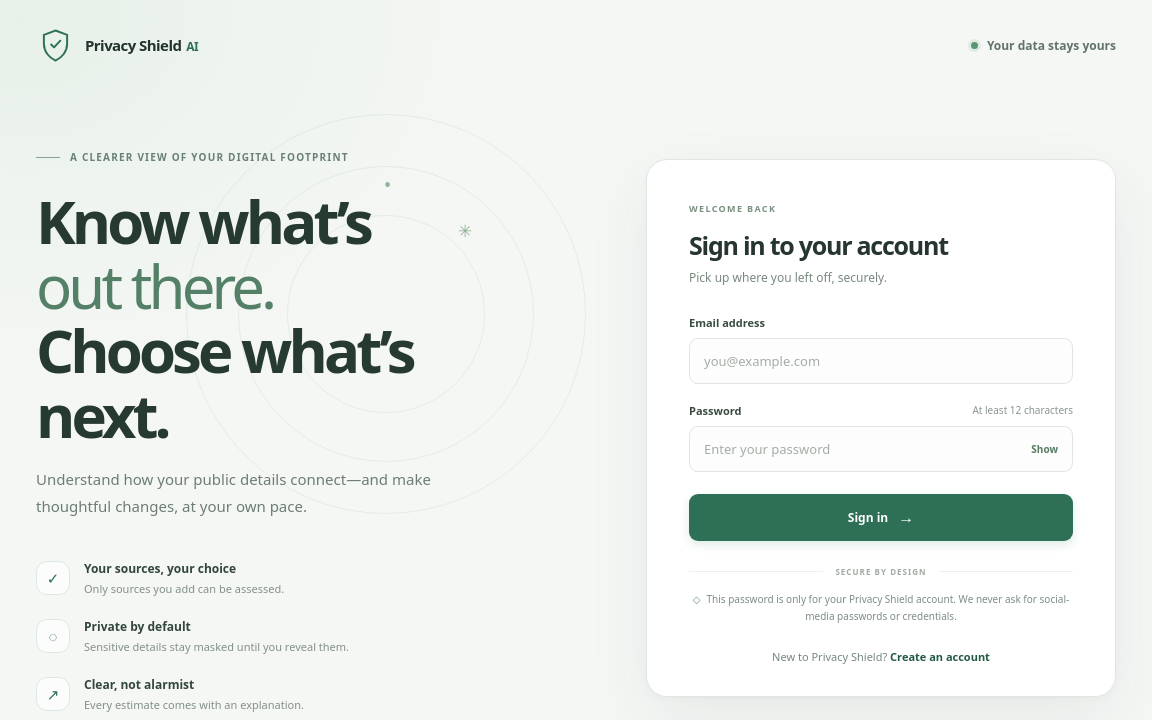
account access › shows a request reference with authentication errors
Type "avery@example.test" into the field labelled "Email address" at (881, 360), box [689, 338, 1073, 384]
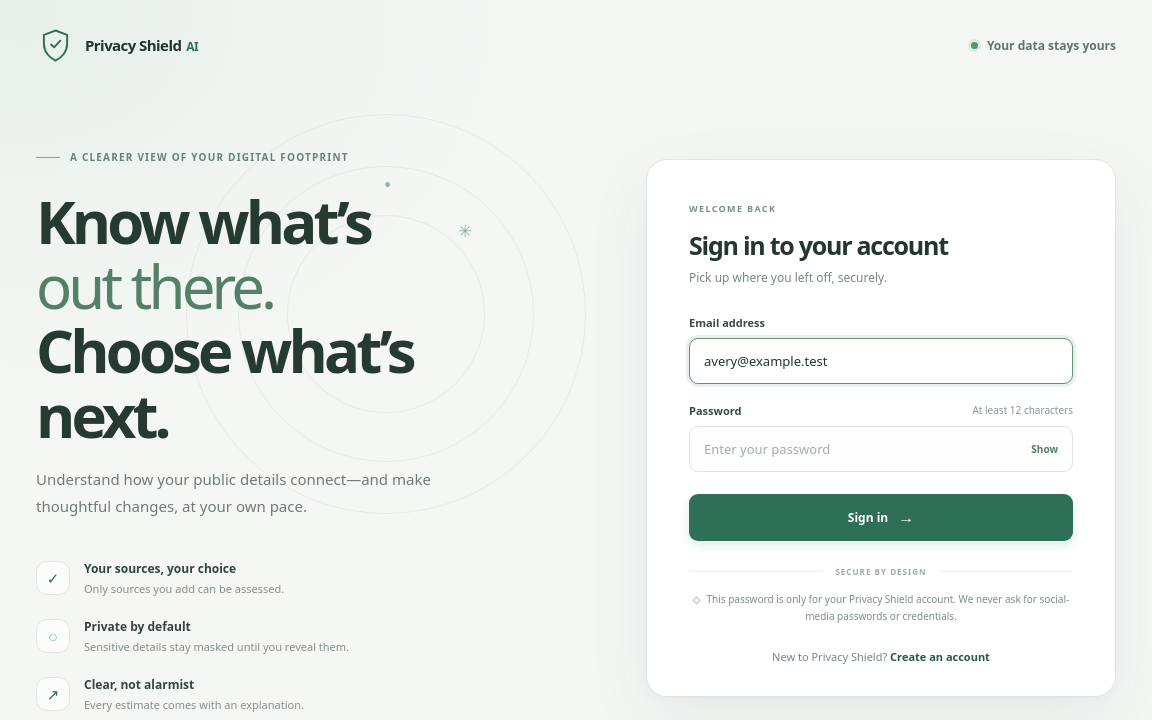
Type "synthetic-password-123" into the password field labelled "Password" at (881, 448), box [689, 426, 1073, 472]
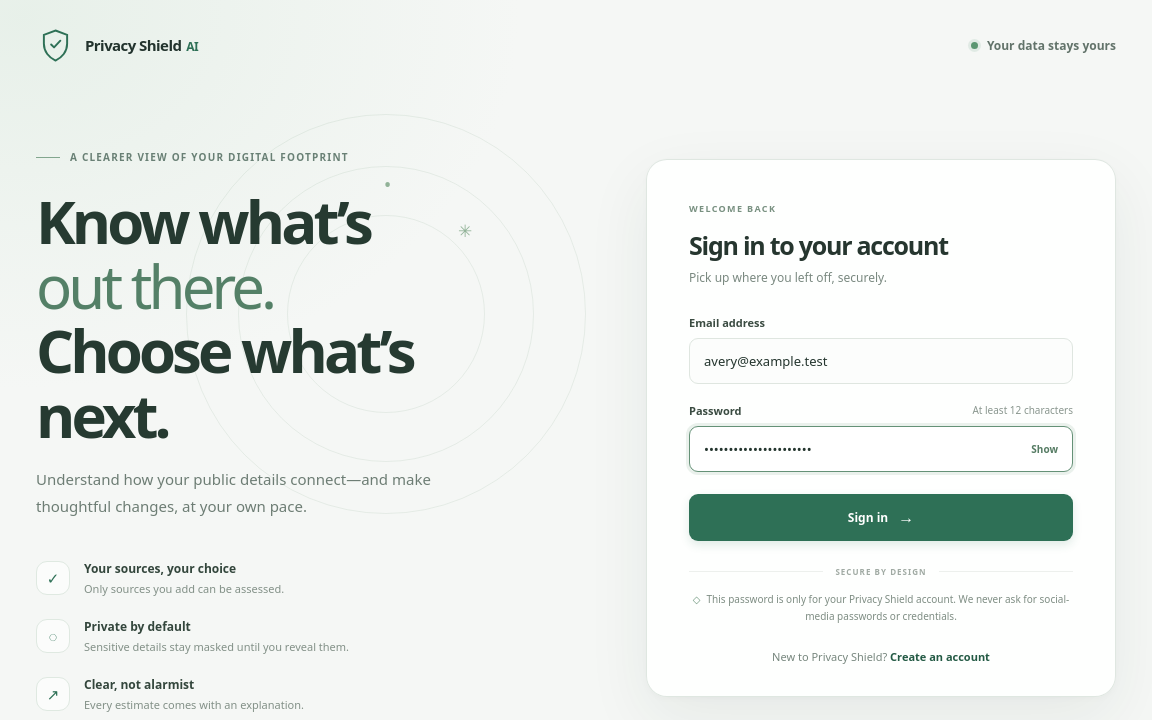
Click the button "Sign in →" at (881, 517), box [689, 494, 1073, 540]
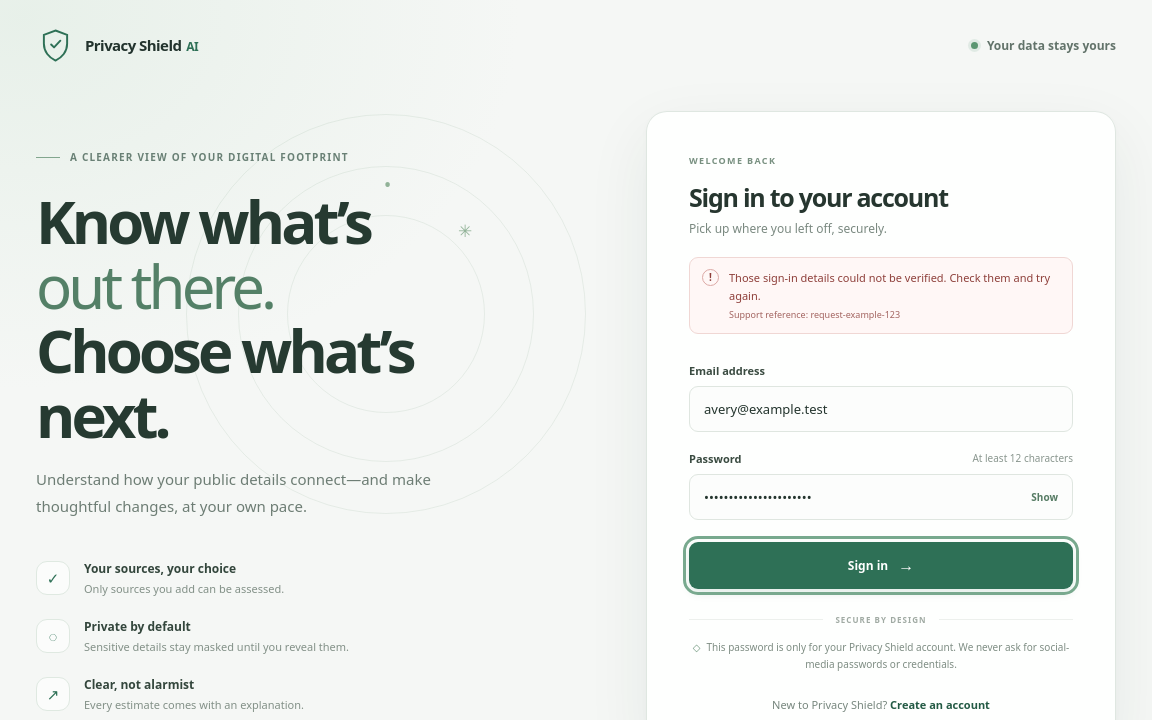
expect the message shows "could not be verified": met, box [729, 270, 1050, 302]
expect the message shows "request-example-123": met, box [810, 308, 900, 321]
